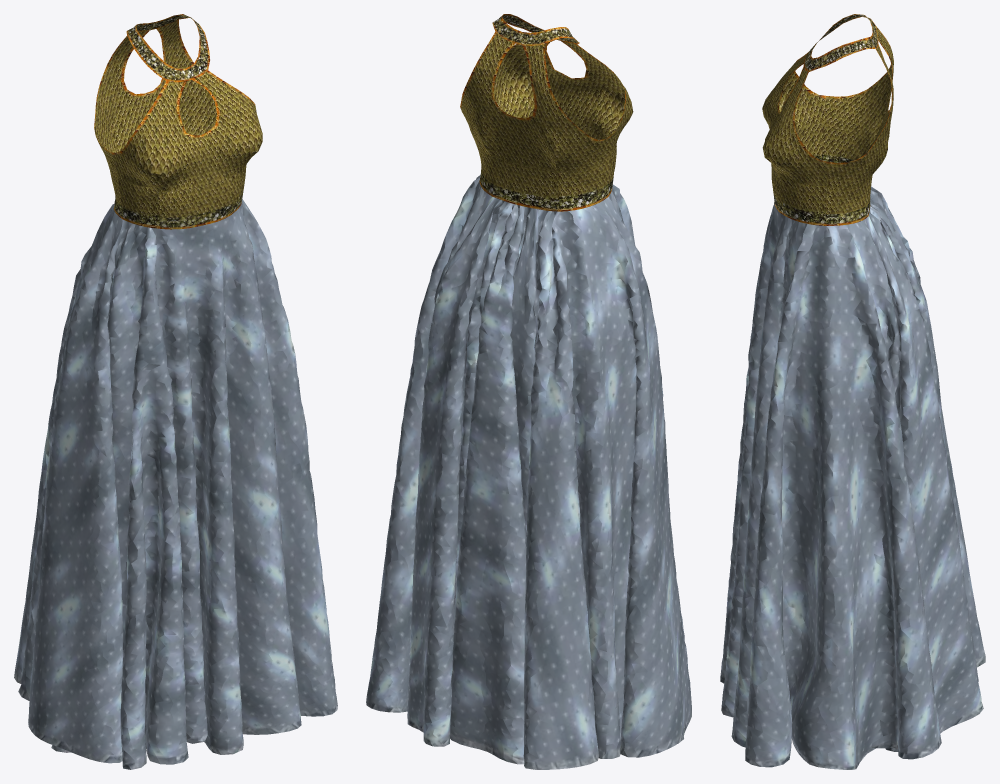
File: elvs-goddess-dress4.glb
3 views of the same model, side by side, from view 1: azimuth 30°, elevation 25°; view 2: azimuth 150°, elevation 25°; view 3: azimuth 270°, elevation 25° (orthographic). The views are drawn at different scales.
Parts seen in each view (by area): view 1: goddess dress4; view 2: goddess dress4; view 3: goddess dress4.
Part boxes in pixels (left/top/right/bottom): goddess dress4: left=14, top=14, right=337, bottom=769; goddess dress4: left=366, top=14, right=691, bottom=769; goddess dress4: left=720, top=14, right=985, bottom=769.
Size of the model in its own units: 57.88 by 137 by 47.85.
1 material, 1 textured.
